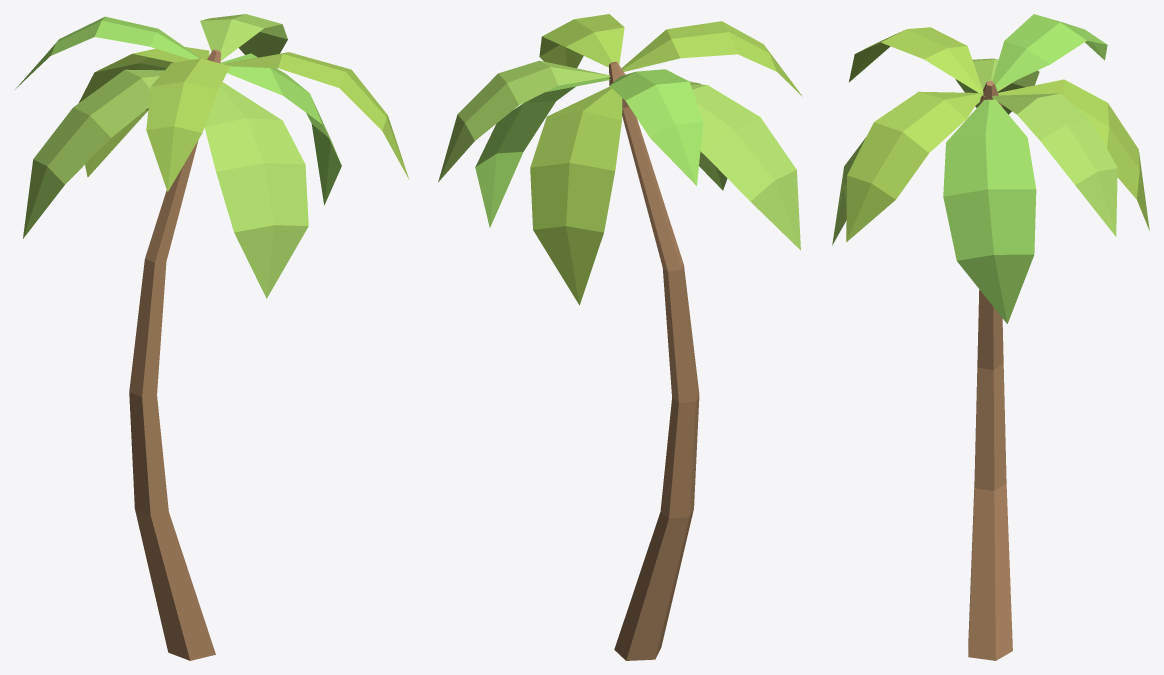
Rendered from Palm_Tree_m_03.fbx.
The picture shows the model from 3 angles, left to right: view 1: azimuth 30°, elevation 25°; view 2: azimuth 150°, elevation 25°; view 3: azimuth 270°, elevation 25°; orthographic projection. The views are drawn at different scales.
Visible parts, largest first — view 1: Palm_Tree_m_03; view 2: Palm_Tree_m_03; view 3: Palm_Tree_m_03.
Boxes of the visible parts, <box> form: Palm_Tree_m_03: <box>15,14,409,660</box>; Palm_Tree_m_03: <box>438,14,802,660</box>; Palm_Tree_m_03: <box>832,14,1149,660</box>.
Size of the model in its own units: 301 by 563 by 269.
